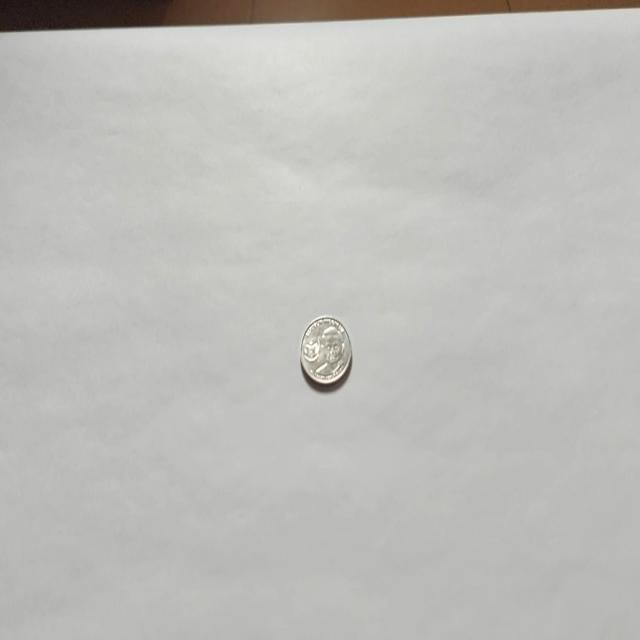seribu rupiah koin: (299, 314, 352, 386)
